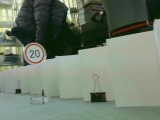speed_20: (20, 42, 48, 65)
